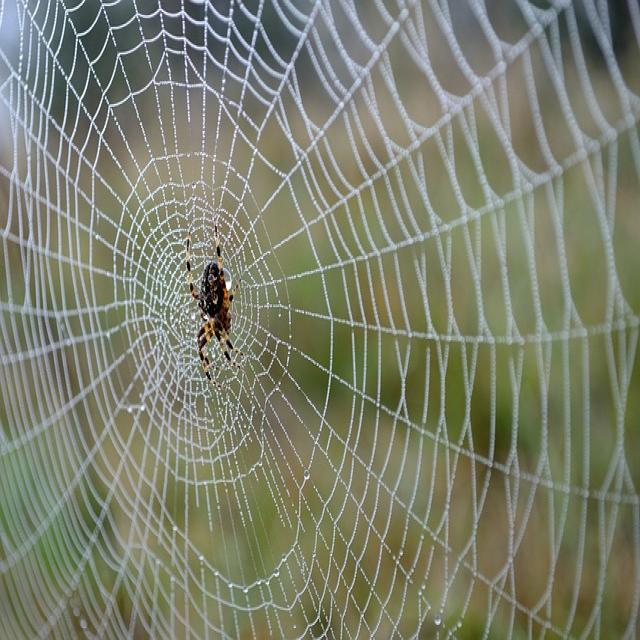spyder: (185, 235, 231, 361)
